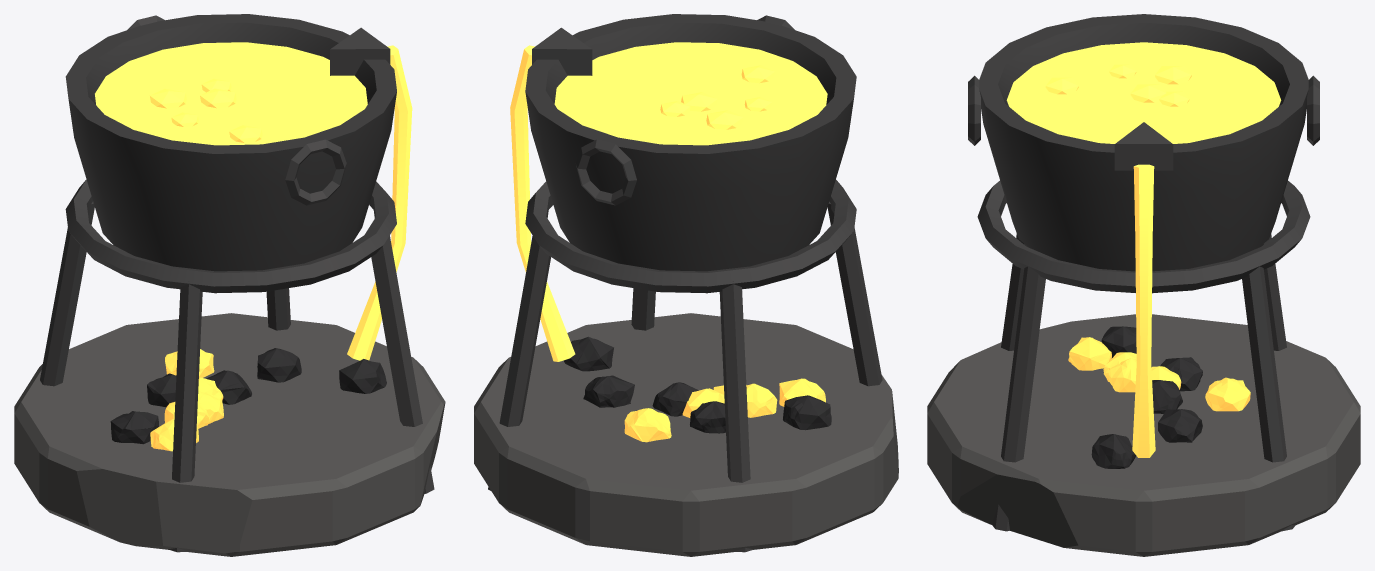
The model's file is lava_crucible.glb.
The picture shows the model from 3 angles, left to right: view 1: azimuth 30°, elevation 25°; view 2: azimuth 150°, elevation 25°; view 3: azimuth 270°, elevation 25°; orthographic projection.
Visible parts, largest first — view 1: lava_crucible; view 2: lava_crucible; view 3: lava_crucible.
Boxes of the visible parts, box(x1,y1,x2,y2) form: lava_crucible: box(14, 14, 445, 556); lava_crucible: box(474, 14, 898, 556); lava_crucible: box(927, 14, 1360, 556).
Size of what is drawn, in the model's own units: 1.48 by 1.5 by 1.48.
